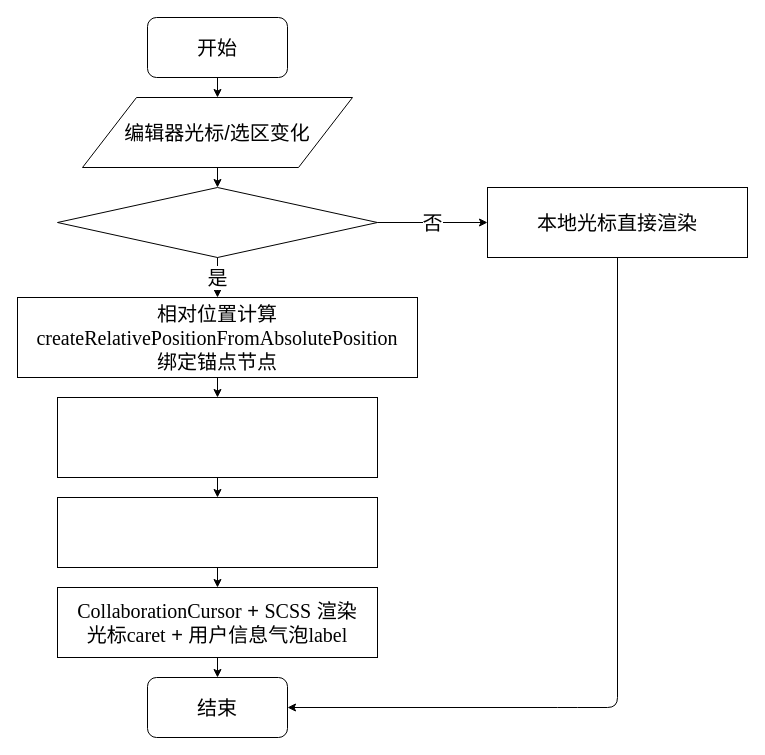
Image size: 765x755. Some labels were removed from this diagram. The box of each missing label's shape, as (x1, y1, x2, y2) in pixels:
Awareness 封装 + WebSocket 广播 setLocalState( 相对位置 + 用户信息 ): (56, 396, 378, 478)
协作模式?: (56, 186, 378, 258)
对端接收 + 反推绝对位置 Relative Position → Absolute Position: (56, 496, 378, 568)
